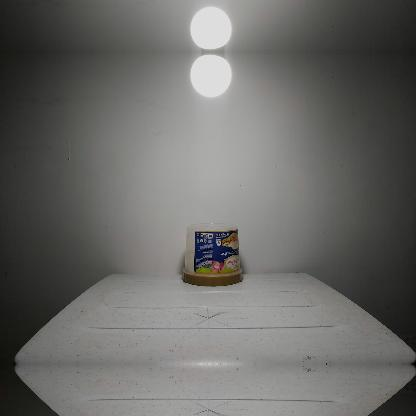Lady-s-Choice: (182, 223, 242, 286)
